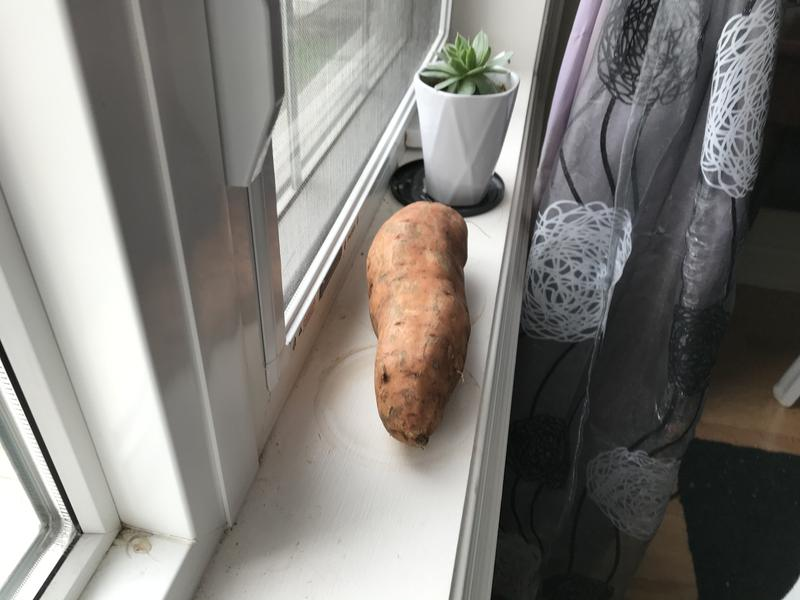sweet_potato: (358, 196, 479, 457)
